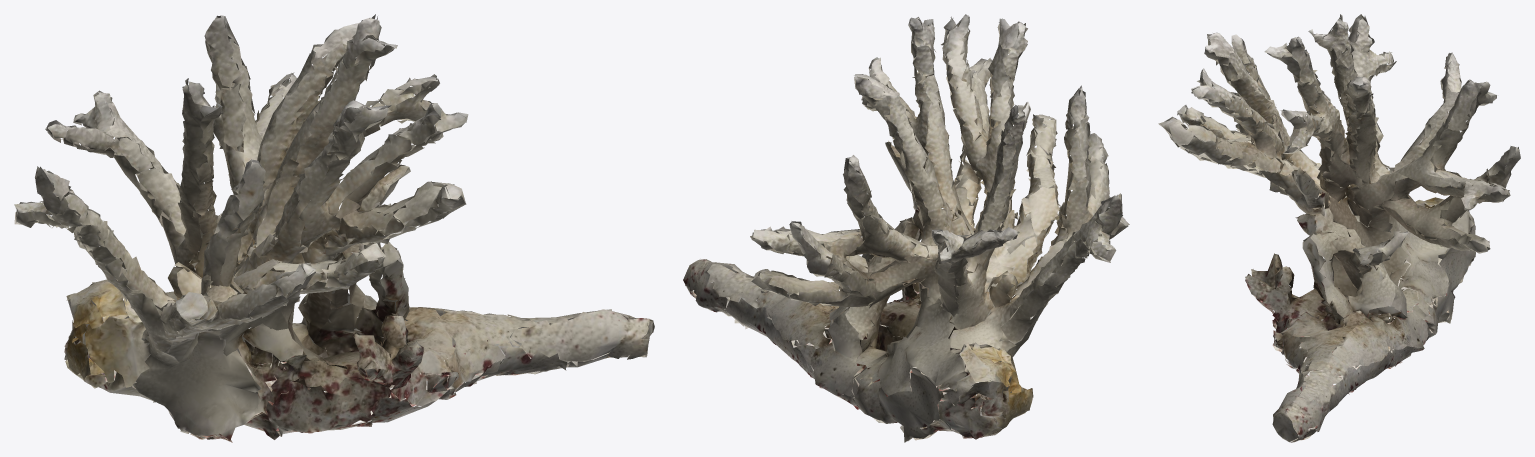
File: Acropora_LOD1.fbx
The picture shows the model from 3 angles, left to right: view 1: azimuth 30°, elevation 25°; view 2: azimuth 150°, elevation 25°; view 3: azimuth 270°, elevation 25°; orthographic projection. The views are drawn at different scales.
Visible parts, largest first — view 1: Acropora_LOD1; view 2: Acropora_LOD1; view 3: Acropora_LOD1.
Boxes of the visible parts, x1,y1,x2,y2 form: Acropora_LOD1: (14,14,654,442); Acropora_LOD1: (683,14,1129,442); Acropora_LOD1: (1158,14,1520,442).
Bounding box in the file's own units: 100 × 71.76 × 71.38.
1 material, 1 textured.
